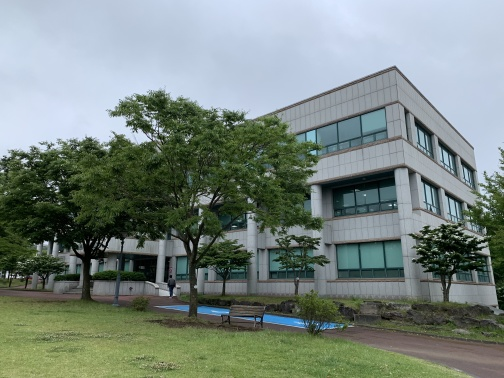Second Library: (271, 68, 497, 314), (158, 171, 492, 308)
